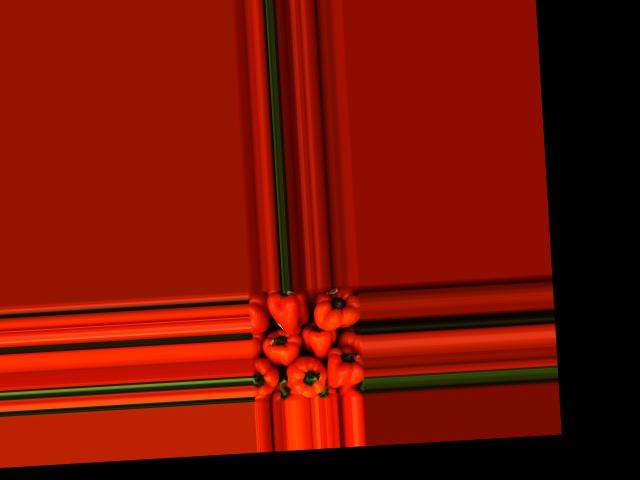bell_pepper: (248, 289, 269, 334)
